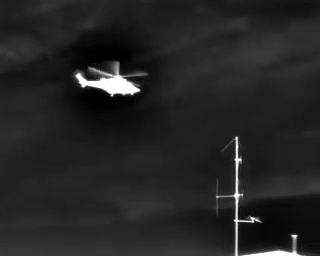HELICOPTER: (72, 54, 152, 105)
